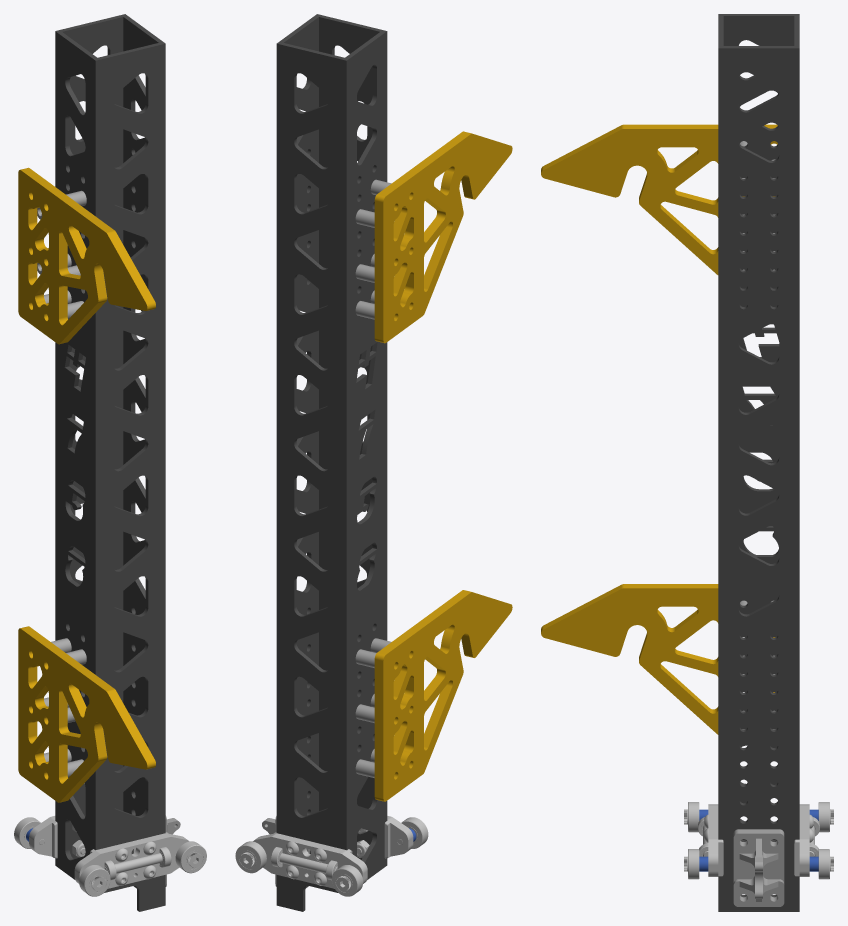
3 renders of one model, left to right at view 1: azimuth 30°, elevation 25°; view 2: azimuth 150°, elevation 25°; view 3: azimuth 270°, elevation 25°, orthographic.
Parts seen in each view (by area): view 1: Climb Sliding Tube Right, Climb Hook (×2), Sliding Bearing Block Plate - SLIDE-001 (×2), TTB-0038_75OD_25ID_28WD (×3), .25diameter_1.75inSteelDowel_SLIDE-002; view 2: Climb Sliding Tube Right, Climb Hook (×2), Sliding Bearing Block Plate - SLIDE-001 (×2), TTB-0038_75OD_25ID_28WD (×2); view 3: Climb Sliding Tube Right, Climb Hook (×2), Part 1, Sliding Bearing Block Plate - SLIDE-001 (×2).
Boxes of the visible parts, left/top/right/bottom form: Climb Sliding Tube Right: left=55, top=14, right=165, bottom=911; Climb Hook (×2): left=18, top=167, right=155, bottom=802; Sliding Bearing Block Plate - SLIDE-001 (×2): left=29, top=816, right=189, bottom=888; TTB-0038_75OD_25ID_28WD (×3): left=14, top=817, right=206, bottom=896; .25diameter_1.75inSteelDowel_SLIDE-002: left=104, top=853, right=162, bottom=873; Climb Sliding Tube Right: left=276, top=14, right=387, bottom=911; Climb Hook (×2): left=374, top=131, right=512, bottom=801; Sliding Bearing Block Plate - SLIDE-001 (×2): left=253, top=816, right=413, bottom=888; TTB-0038_75OD_25ID_28WD (×2): left=235, top=841, right=363, bottom=896; Climb Sliding Tube Right: left=718, top=14, right=799, bottom=911; Climb Hook (×2): left=541, top=124, right=777, bottom=734; Part 1: left=733, top=829, right=784, bottom=906; Sliding Bearing Block Plate - SLIDE-001 (×2): left=708, top=804, right=809, bottom=876.
Size of the model in its own units: 0.1014 by 0.5969 by 0.1834.
